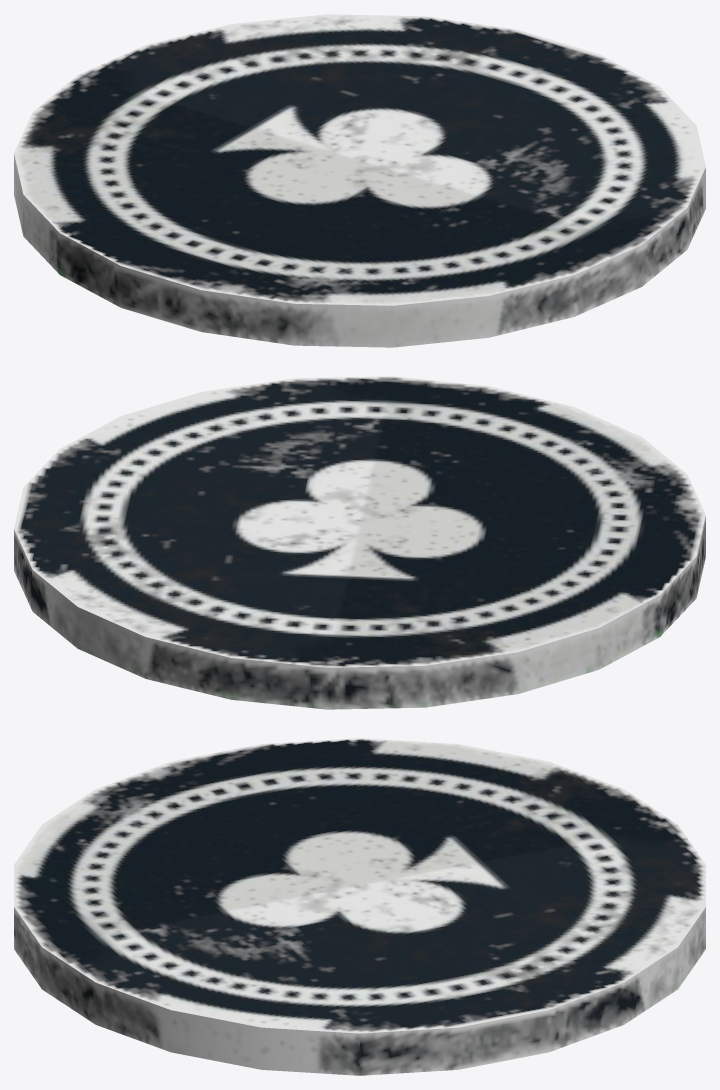
3 renders of one model, top to bottom at view 1: azimuth 30°, elevation 25°; view 2: azimuth 150°, elevation 25°; view 3: azimuth 270°, elevation 25°, orthographic.
Visible parts, largest first — view 1: f4__; view 2: f4__; view 3: f4__.
Boxes of the visible parts, x1,y1,x2,y2 form: f4__: [14, 14, 705, 347]; f4__: [14, 376, 705, 709]; f4__: [14, 738, 705, 1075].
Size of the model in its own units: 30 by 2 by 29.69.
Materials: 1 (1 with a texture image).
